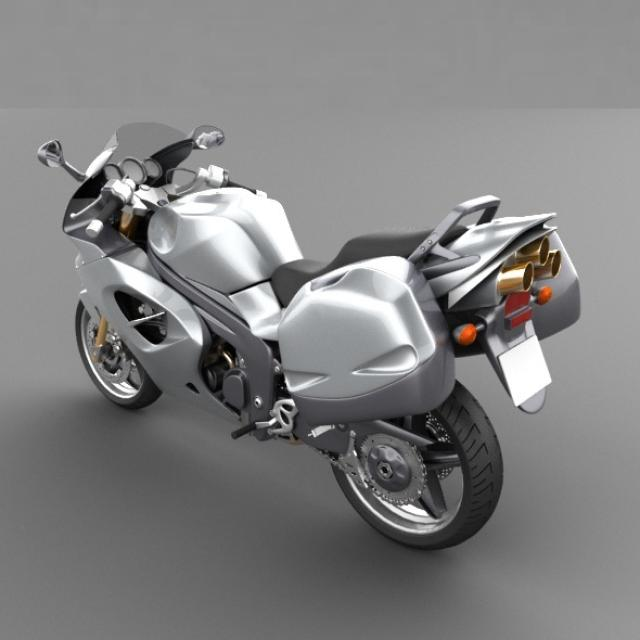Motorcycle: (38, 125, 580, 549)
